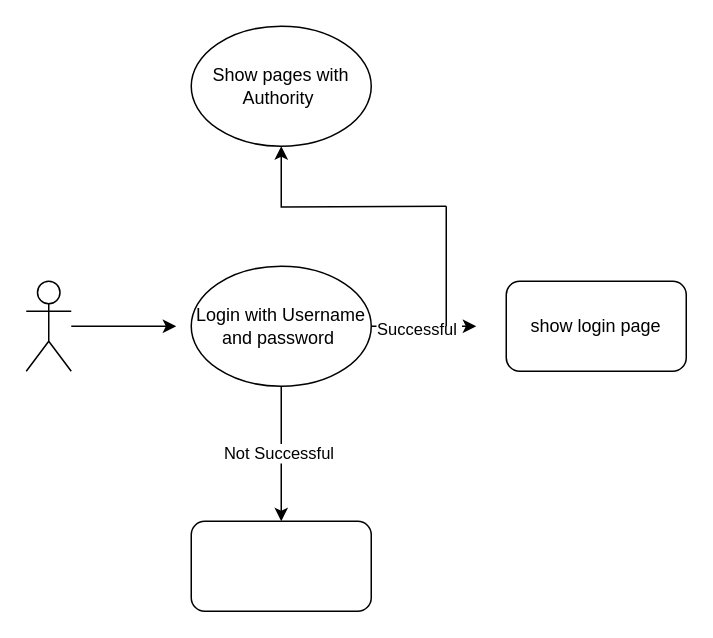
Image size: 713x638. Some labels were removed from this diagram. Each missing label, with the centre of its shape:
Show error message: pixel 280 565
User: pixel 48 325
